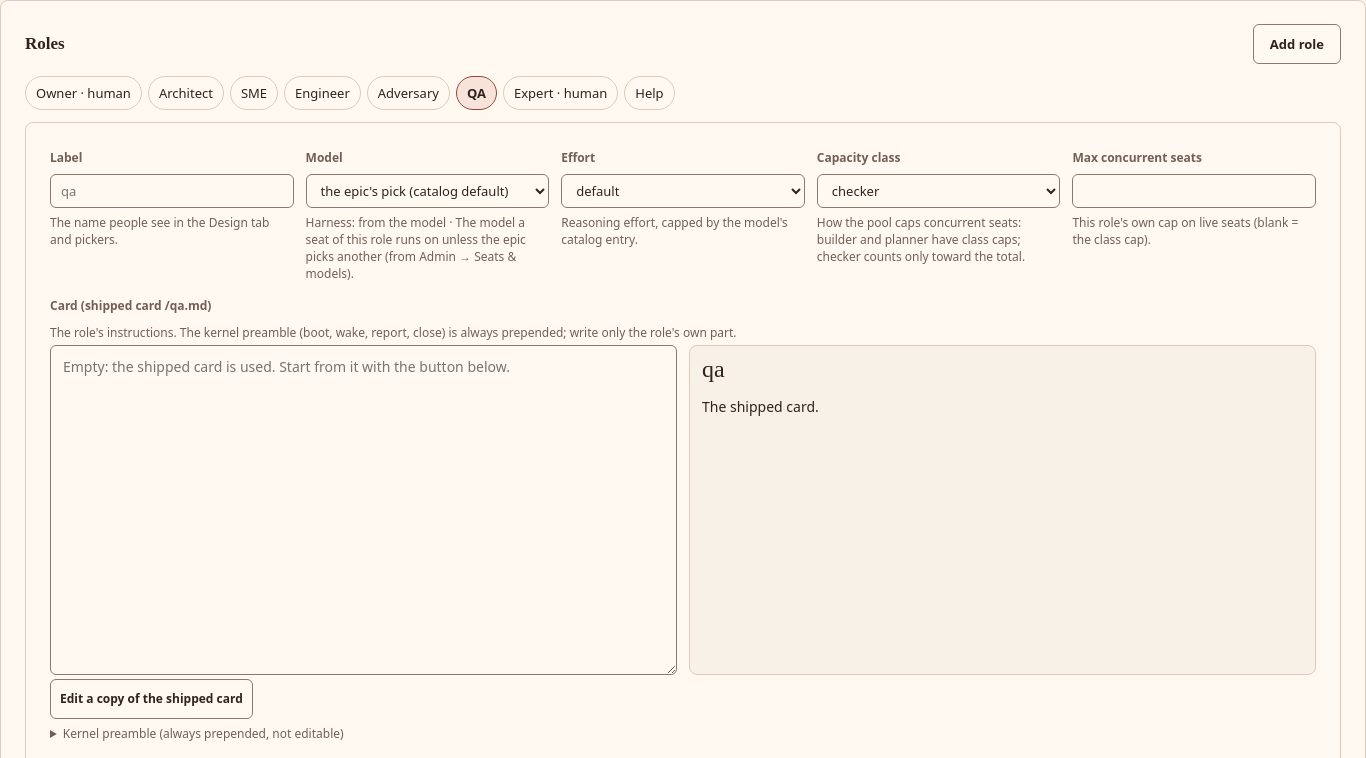
Test case: role panel › the card editor forks the shipped card and previews the markdown through the board
This screenshot has width=1366, height=758.
Click the button with test id "role-card-fork". click: click(151, 699)
box: [50,679,253,719]
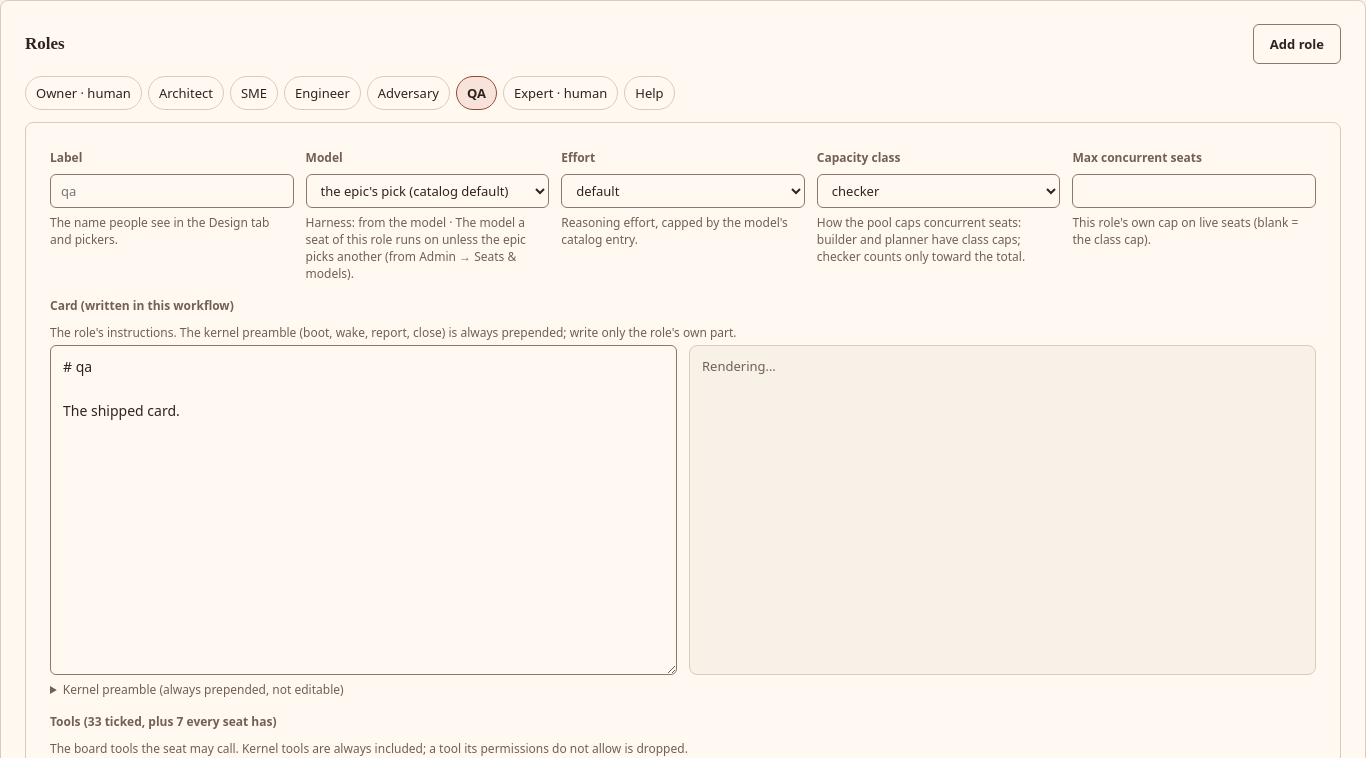
Replace the text in the text box with test id "role-card" with "Check **everything**.". click: (364, 510)
box: [50,345,677,675]
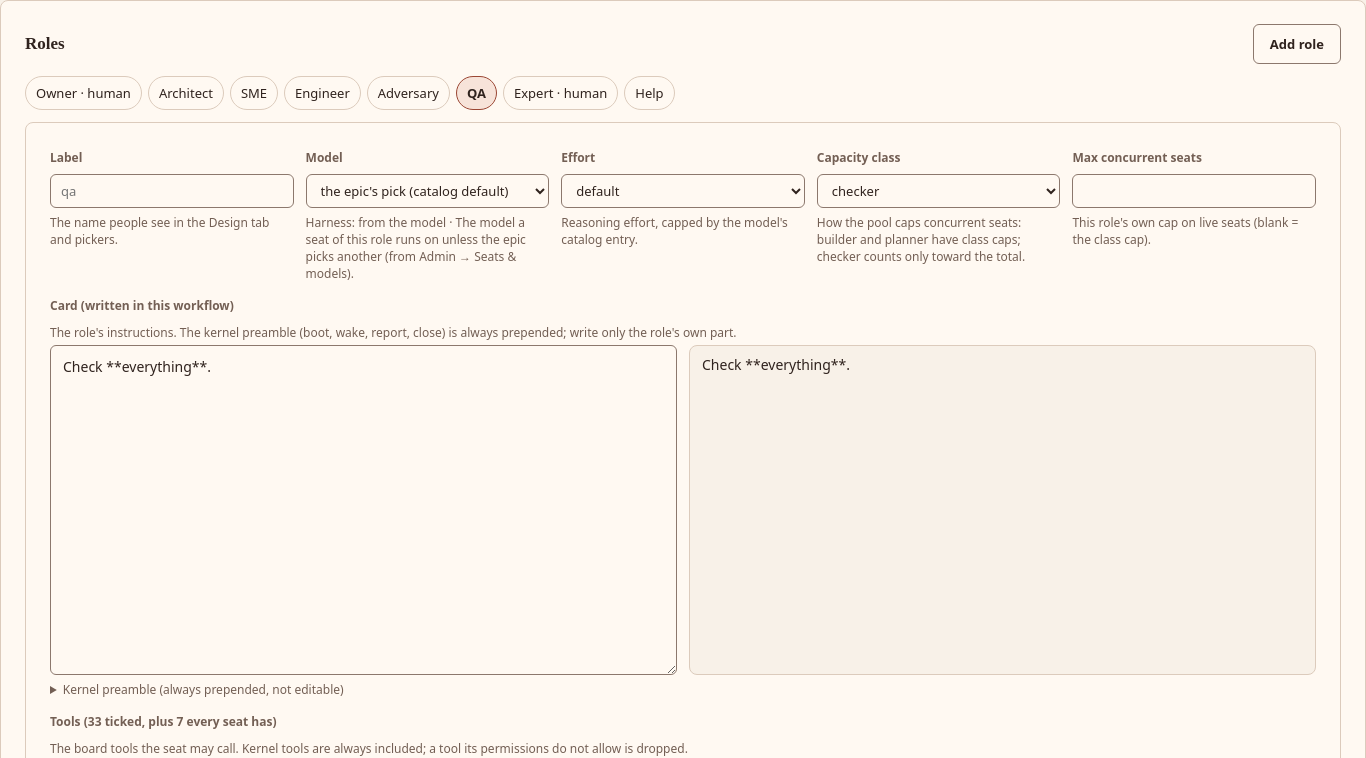
Check: the element with test id "role-card-preview" reads "Check **everything**.", box [702,355,850,374]
